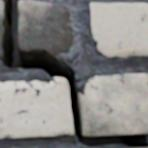brick: (0, 80, 73, 138), (82, 74, 147, 135), (90, 3, 147, 57)
broken_brick: (18, 1, 73, 57), (0, 1, 5, 59)
crack: (1, 0, 147, 147)
